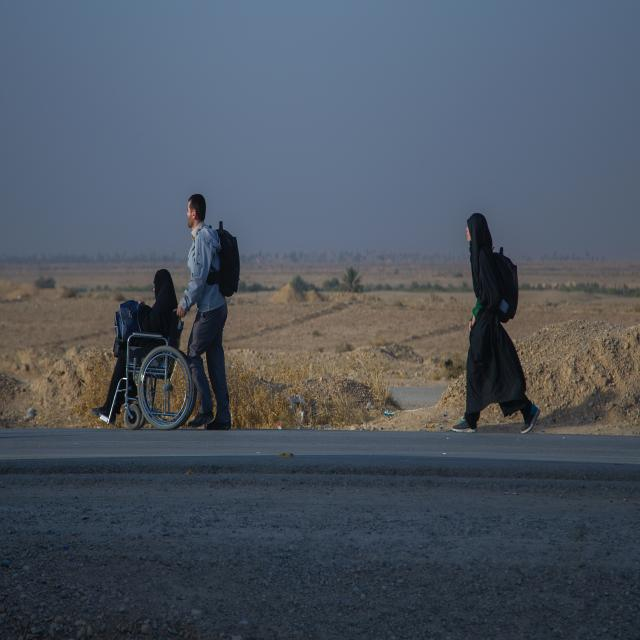wheelchairs: (94, 306, 198, 430)
